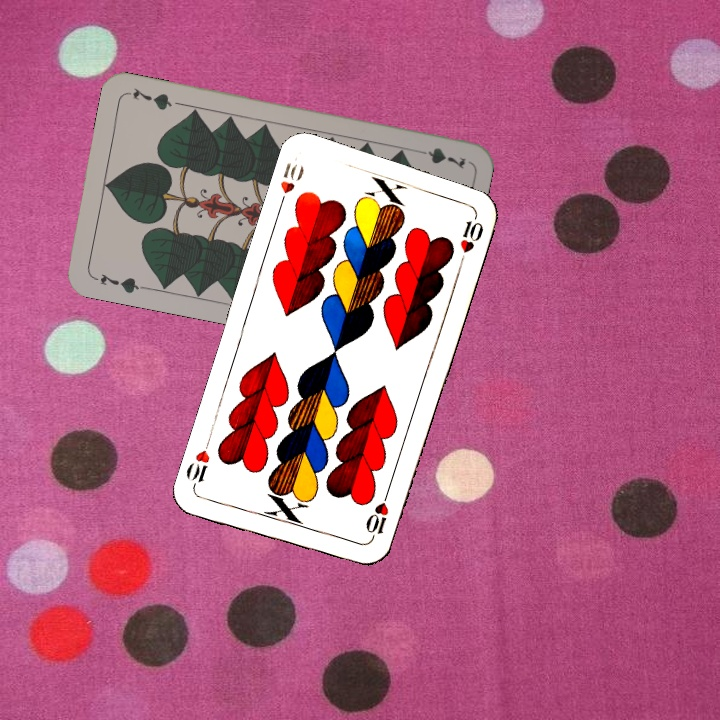G7: (410, 143, 469, 172), (89, 269, 148, 296)
H10: (274, 158, 307, 211), (362, 487, 392, 545)
